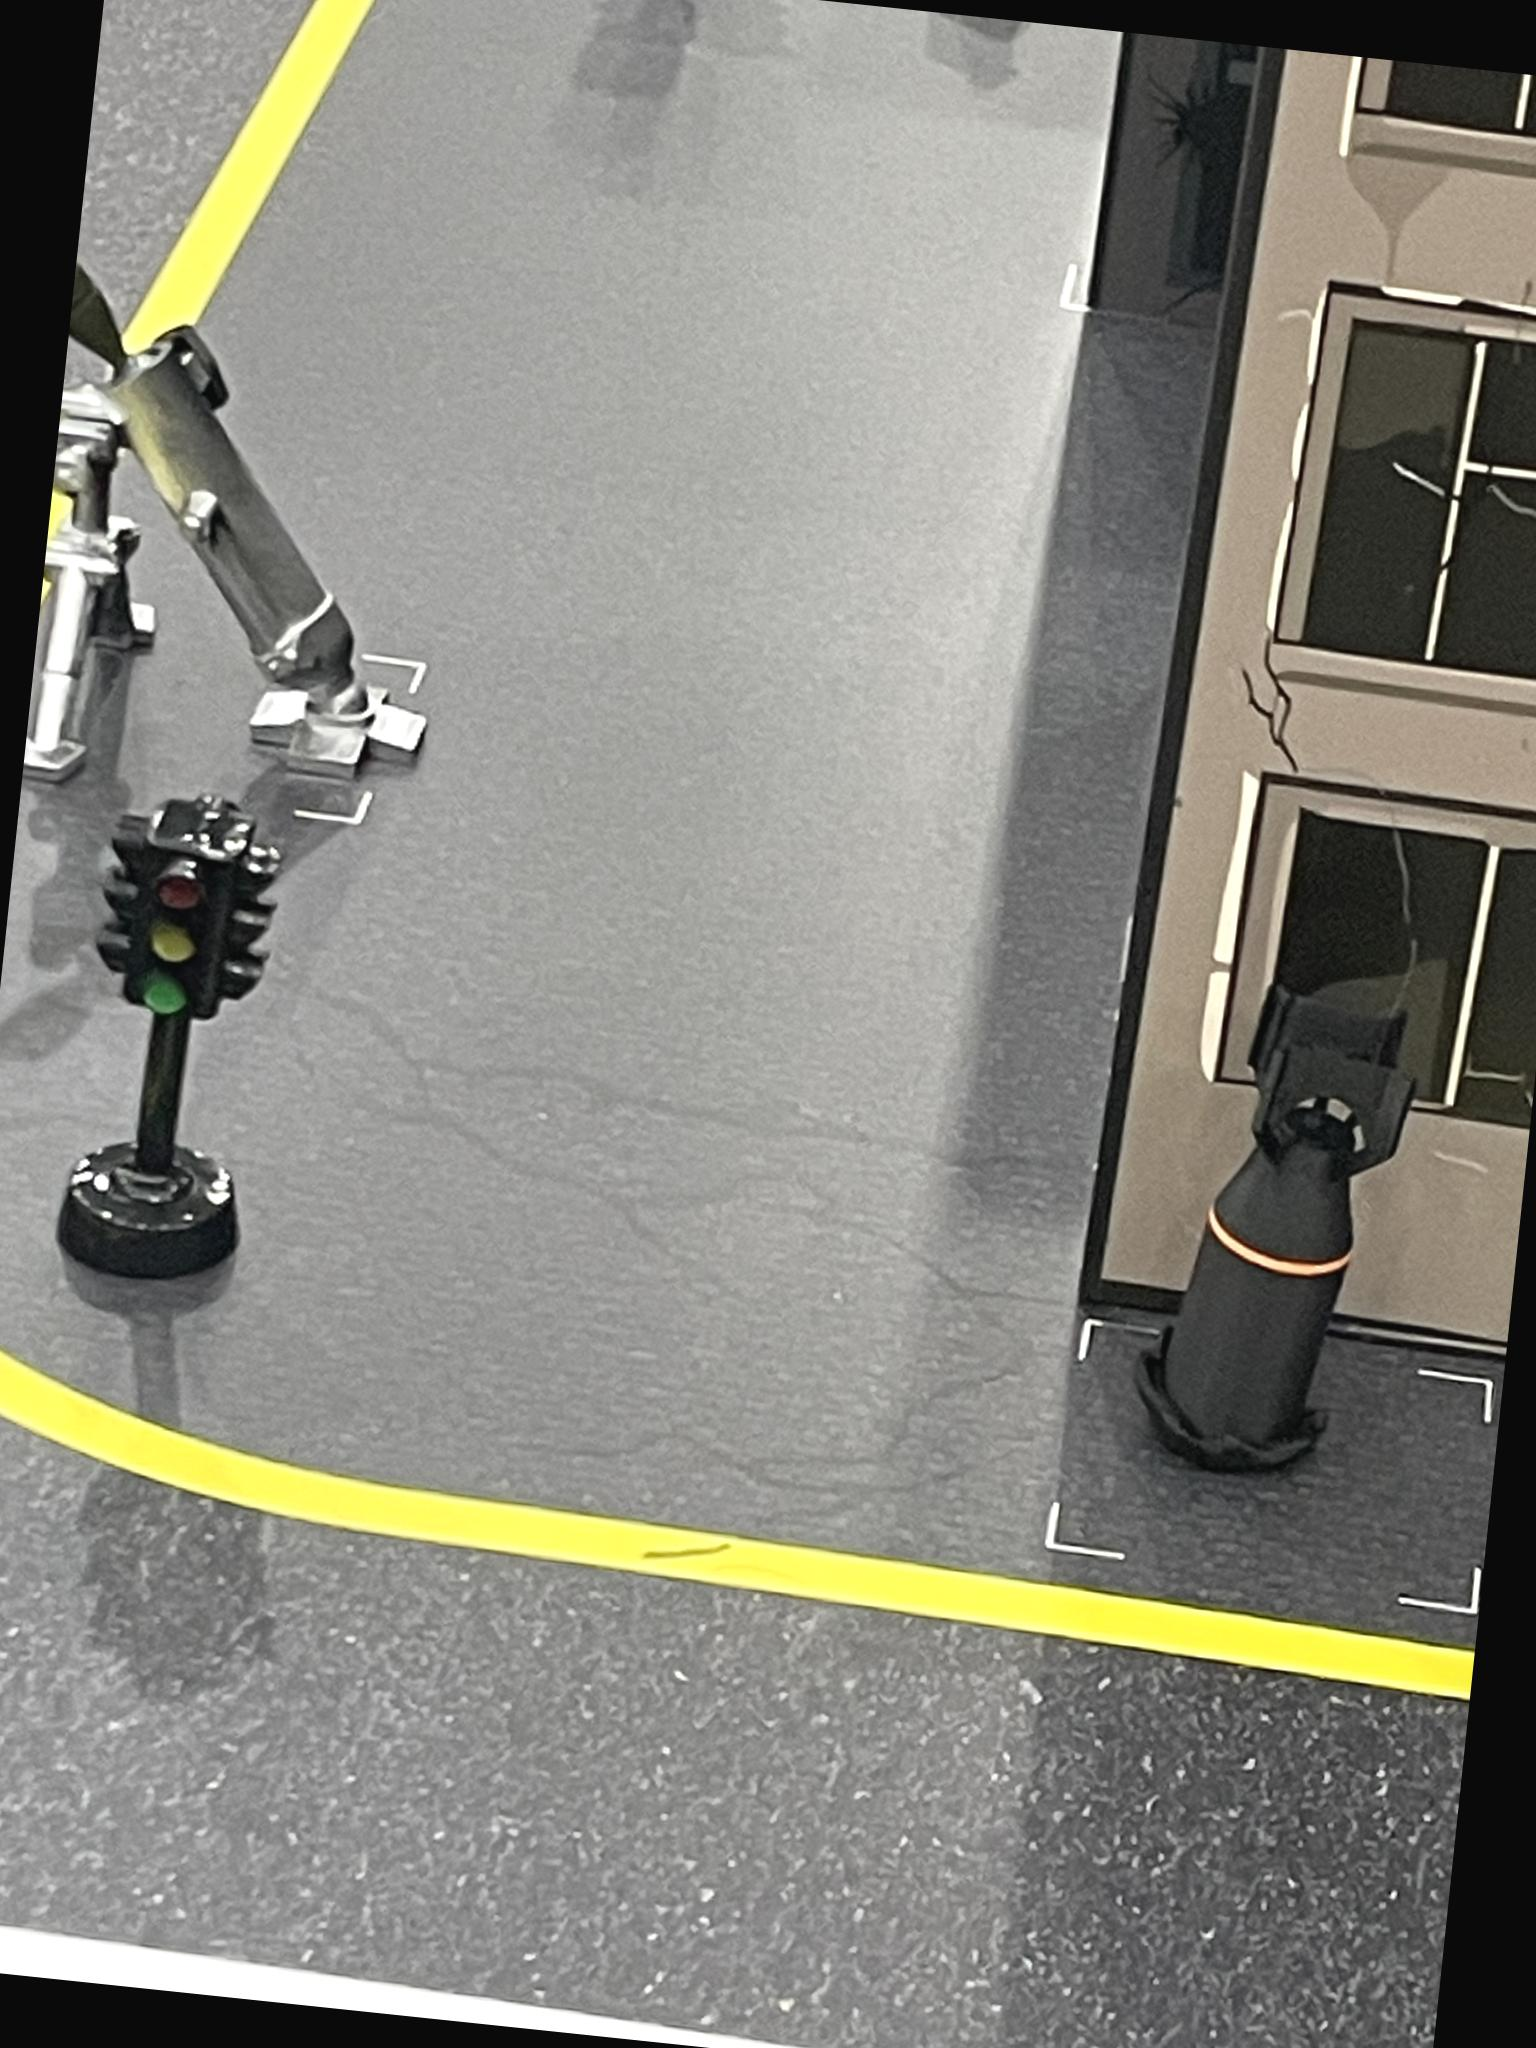Missile: (1115, 963, 1425, 1500)
Mortar: (23, 239, 492, 814)
